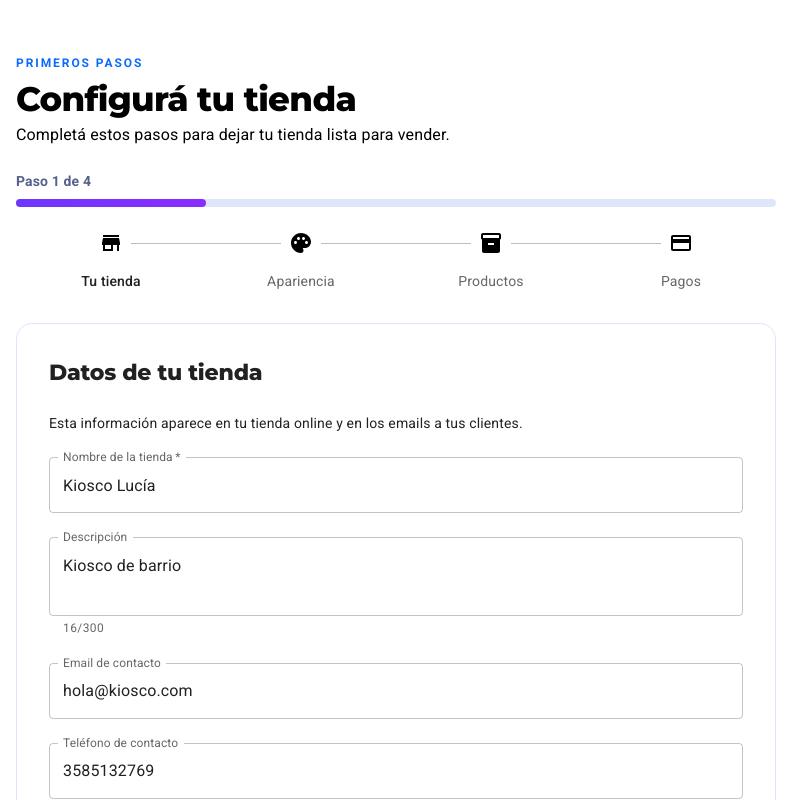
Scenario: Onboarding · paso «Tu tienda» › un email mal escrito se marca y no se guarda
Replace the text in the field labelled "Email de contacto" with "hola@": [396, 691] box [49,663,743,719]
(page scrolled)
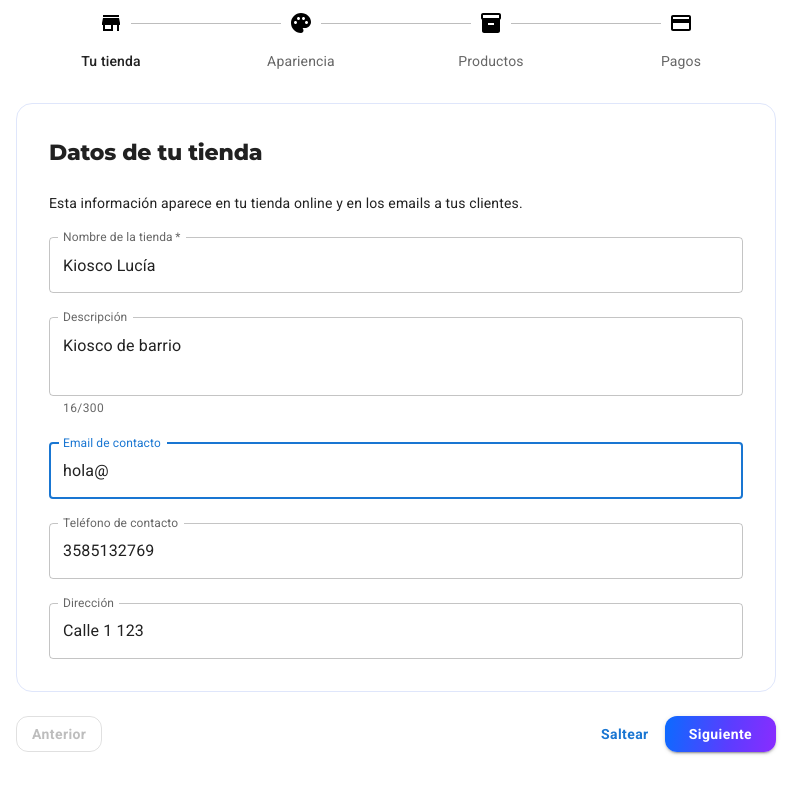
Click the button "Siguiente": [720, 734] box [665,716,776,752]
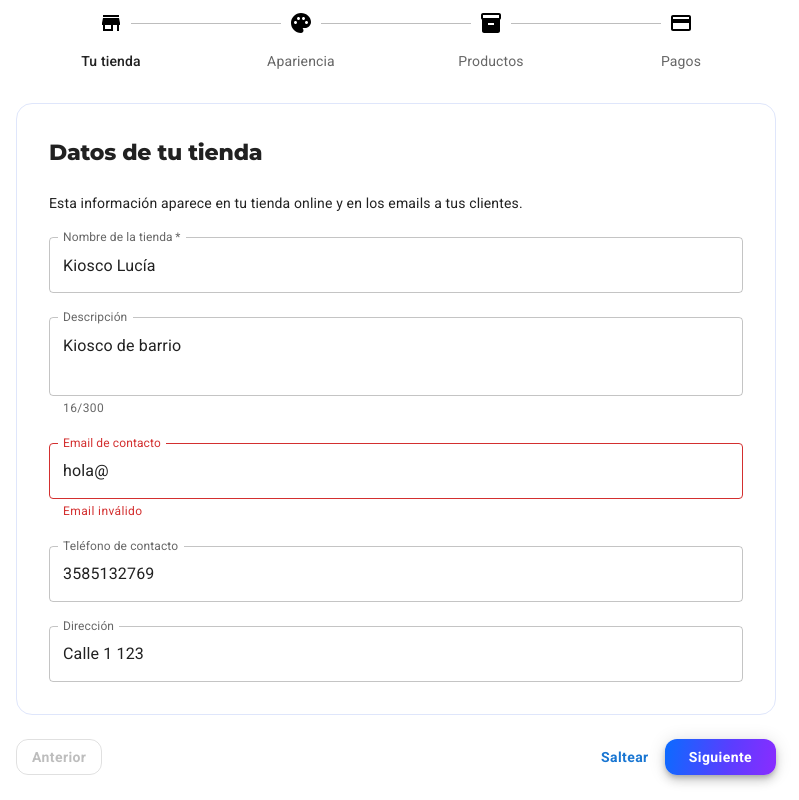
Expected: the text "Email inválido" is shown, [63,504,142,518]
